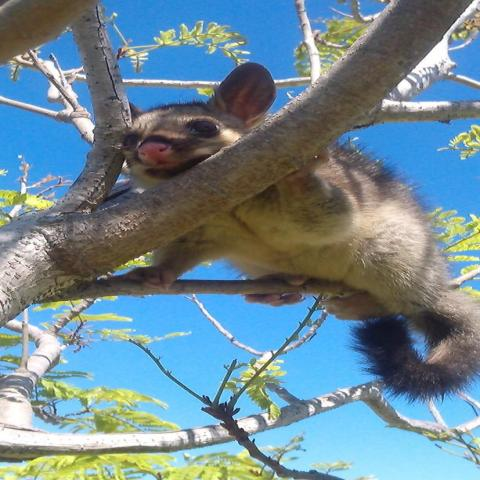small_animal: (116, 61, 478, 392)
